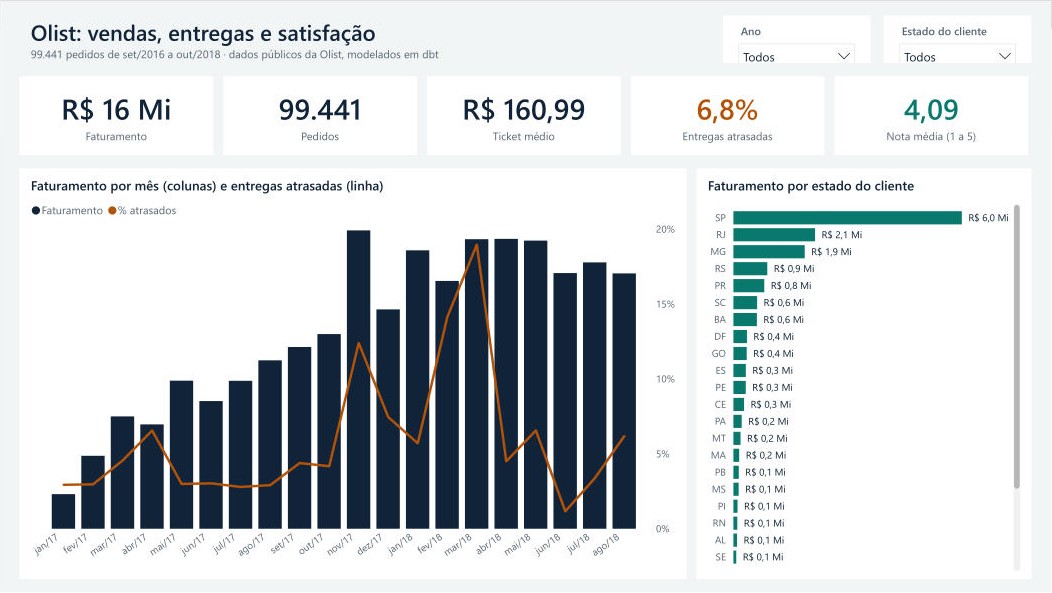

This screenshot's page, from the dashboard's own definition file:
{"tool":"powerbi","page":{"name":"Visão geral","canvas":[1280,720],"ordinal":0},"visuals":[{"type":"textbox","box":[24,10,820,76],"z":1000},{"type":"slicer","fields":{"Values":["Calendário.Ano"]},"box":[880,18,180,58],"z":2000},{"type":"slicer","fields":{"Values":["Clientes.Estado"]},"box":[1076,18,180,58],"z":3000},{"type":"card","fields":{"Values":["Medidas.Faturamento"]},"box":[24,92,236,96],"z":4000},{"type":"card","fields":{"Values":["Medidas.Pedidos (qtd)"]},"box":[272,92,236,96],"z":5000},{"type":"card","fields":{"Values":["Medidas.Ticket médio"]},"box":[520,92,236,96],"z":6000},{"type":"card","fields":{"Values":["Medidas.% atrasados"]},"box":[768,92,236,96],"z":7000},{"type":"card","fields":{"Values":["Medidas.Nota média"]},"box":[1016,92,236,96],"z":8000},{"type":"lineClusteredColumnComboChart","title":"Faturamento por mês (colunas) e entregas atrasadas (linha)","fields":{"Category":["Calendário.Mês"],"Y":["Medidas.Faturamento (meses completos)"],"Y2":["Medidas.% atrasados (meses completos)"]},"box":[24,204,812,500],"z":9000},{"type":"clusteredBarChart","title":"Faturamento por estado do cliente","fields":{"Category":["Clientes.Estado"],"Y":["Medidas.Faturamento"]},"box":[848,204,408,500],"z":10000}]}

Visuals, with their boxes in screenshot pixels (x1, y1, x2, y2), scaled from the page's 1280x720 canvas onto the 1052x593 screenshot:
textbox: box=[20, 8, 694, 71]
slicer - Calendário.Ano: box=[723, 15, 871, 63]
slicer - Clientes.Estado: box=[884, 15, 1032, 63]
card - Medidas.Faturamento: box=[20, 76, 214, 155]
card - Medidas.Pedidos (qtd): box=[224, 76, 418, 155]
card - Medidas.Ticket médio: box=[427, 76, 621, 155]
card - Medidas.% atrasados: box=[631, 76, 825, 155]
card - Medidas.Nota média: box=[835, 76, 1029, 155]
"Faturamento por mês (colunas) e entregas atrasadas (linha)" lineClusteredColumnComboChart: box=[20, 168, 687, 580]
"Faturamento por estado do cliente" clusteredBarChart: box=[697, 168, 1032, 580]
